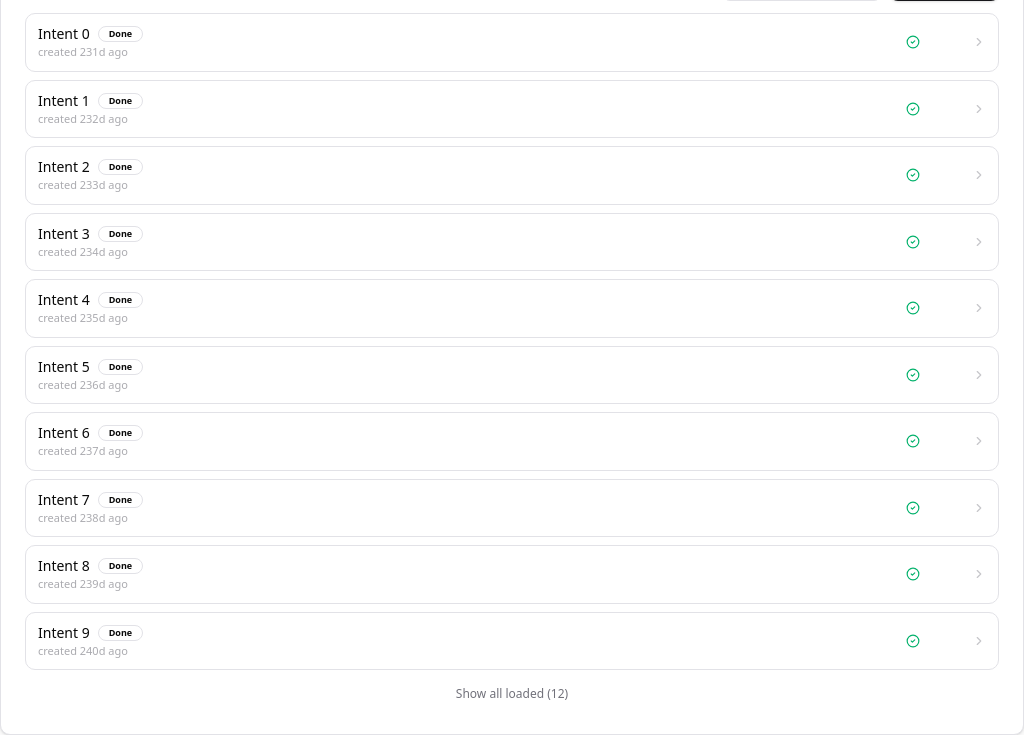
Scenario: Project page — Intent list scalability › "Show all" reveals all intents, then "Show recent" hides them
The image size is (1024, 735).
(page scrolled)
Expected: the text "Intent 0" is shown, x1=38 y1=24 x2=90 y2=44
Click the button with test id "intent-show-toggle".
click(512, 694)  # box x1=25 y1=678 x2=999 y2=710
(page scrolled)
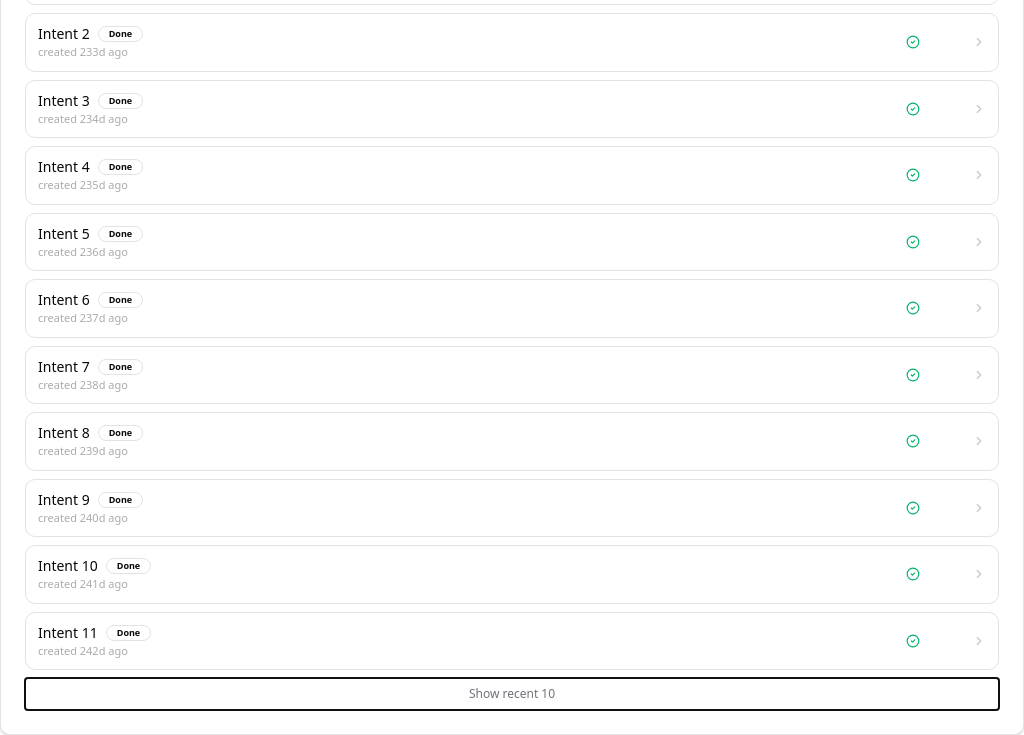
Expected: the button with test id "intent-show-toggle" reads "Show recent 10"
Click the button with test id "intent-show-toggle".
click(512, 694)  # box x1=25 y1=678 x2=999 y2=710
(page scrolled)
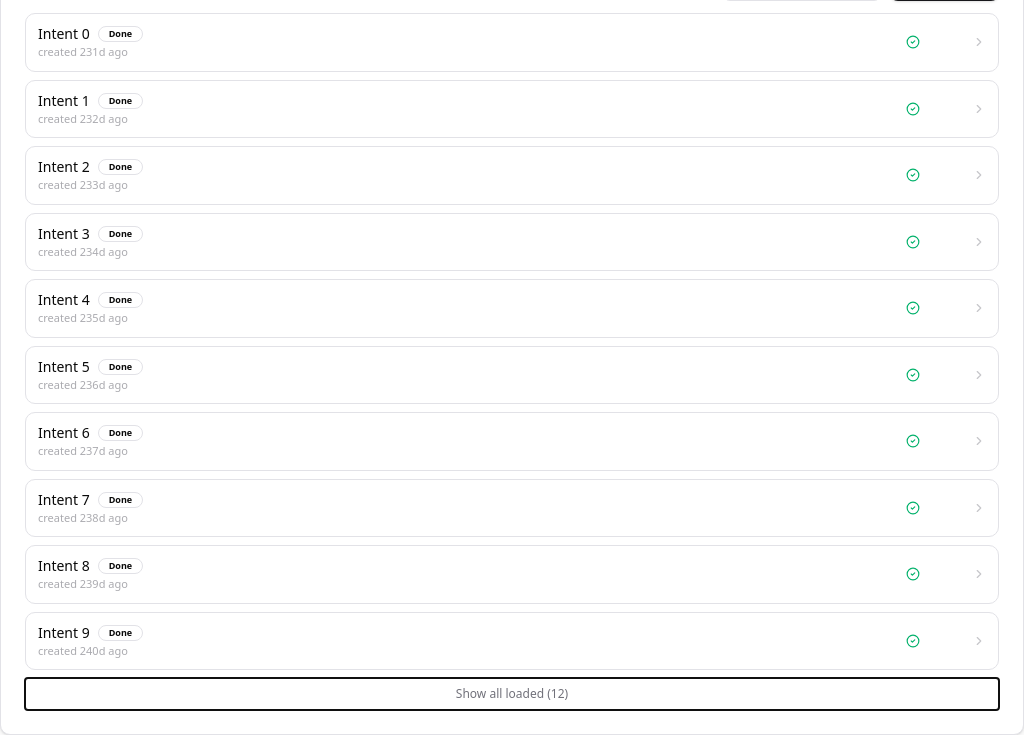
Expected: the number of buttons "Intent 0 Done created 231d ago" is 10
